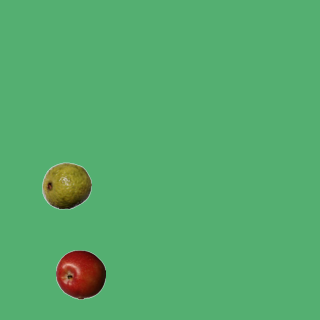Apple Braeburn: (55, 249, 105, 299)
Guava: (41, 160, 91, 210)
